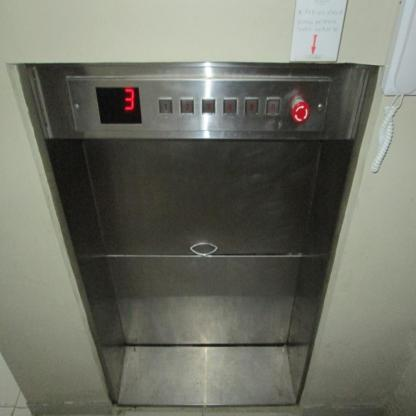1: (157, 96, 173, 116)
2: (179, 95, 195, 115)
3: (200, 95, 217, 116)
4: (222, 96, 238, 116)
5: (244, 95, 258, 116)
6: (265, 96, 280, 116)
empty: (290, 96, 309, 124)
led: (93, 84, 144, 126)
